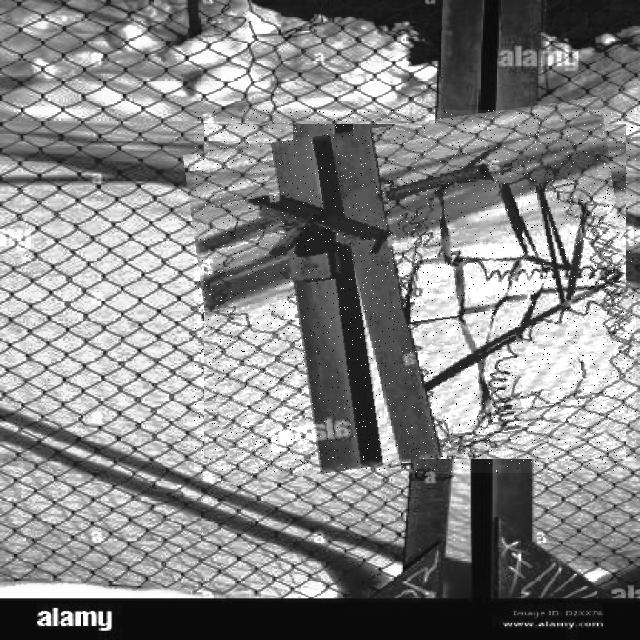anomaly-fence: (194, 110, 636, 473)
